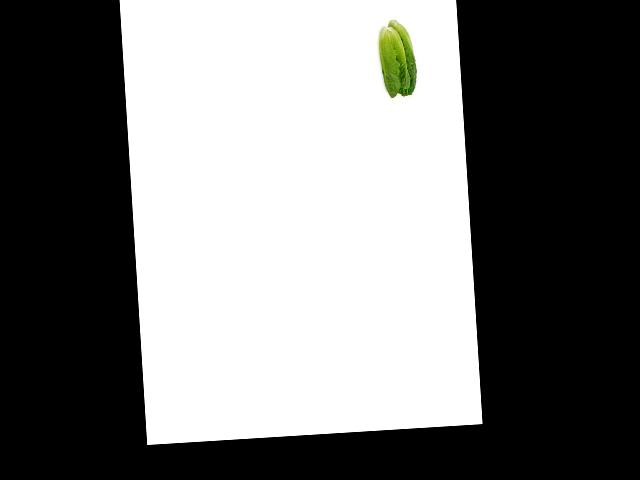lettuce: (372, 19, 418, 99)
